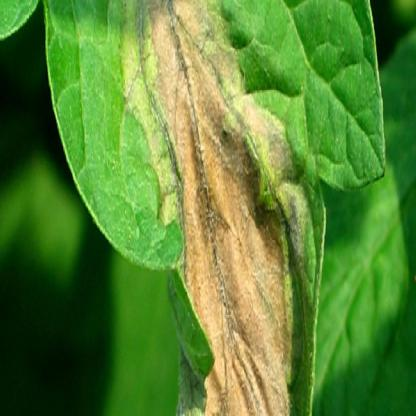tomato leaf late blight: (42, 5, 403, 412)
